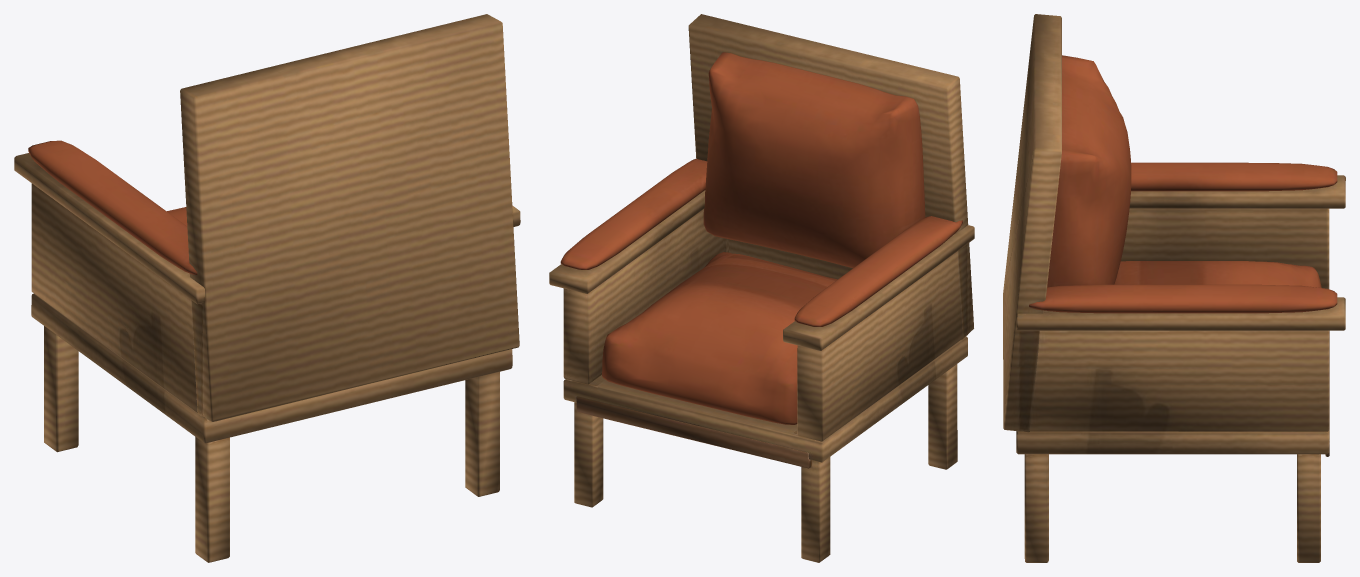
The model's file is armchair_rust.glb.
3 renders of one model, left to right at view 1: azimuth 30°, elevation 25°; view 2: azimuth 150°, elevation 25°; view 3: azimuth 270°, elevation 25°, orthographic. The views are drawn at different scales.
Parts seen in each view (by area): view 1: prop_armchair_rust_wood, prop_armchair_rust_felt; view 2: prop_armchair_rust_felt, prop_armchair_rust_wood; view 3: prop_armchair_rust_wood, prop_armchair_rust_felt.
Part boxes in pixels (bbox=[...]): prop_armchair_rust_wood: bbox=[14, 14, 520, 562]; prop_armchair_rust_felt: bbox=[28, 140, 197, 274]; prop_armchair_rust_felt: bbox=[560, 52, 962, 424]; prop_armchair_rust_wood: bbox=[549, 14, 974, 562]; prop_armchair_rust_wood: bbox=[1003, 14, 1345, 562]; prop_armchair_rust_felt: bbox=[1029, 55, 1337, 313].
Bounding box in the file's own units: 1.64 × 2.24 × 1.66.
Materials: 2 (2 with a texture image).
